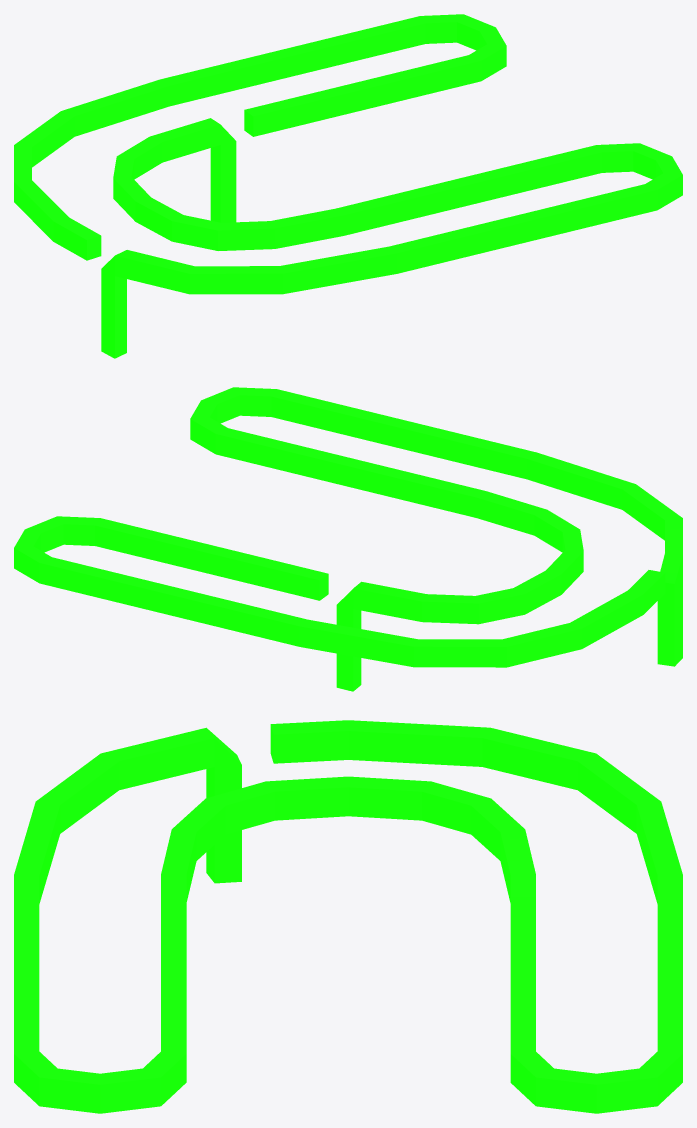
Rendered from Alphabet_3D_04_U.FBX.
The picture shows the model from 3 angles, top to bottom: view 1: azimuth 30°, elevation 25°; view 2: azimuth 150°, elevation 25°; view 3: azimuth 270°, elevation 25°; orthographic projection. The views are drawn at different scales.
Visible parts, largest first — view 1: Alphabet_3D_04_U; view 2: Alphabet_3D_04_U; view 3: Alphabet_3D_04_U.
Part boxes in pixels (<box>): Alphabet_3D_04_U: <box>14,14,682,358</box>; Alphabet_3D_04_U: <box>14,387,682,691</box>; Alphabet_3D_04_U: <box>14,720,682,1113</box>.
Bounding box in the file's own units: 67.95 × 12.63 × 52.68.
